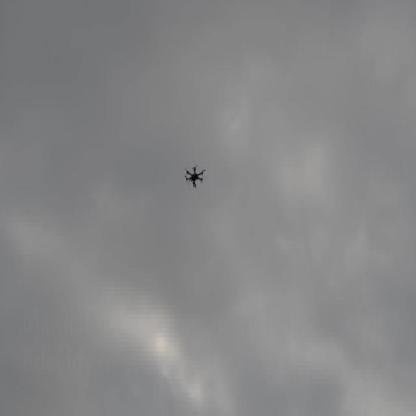drone: (185, 163, 208, 190)
